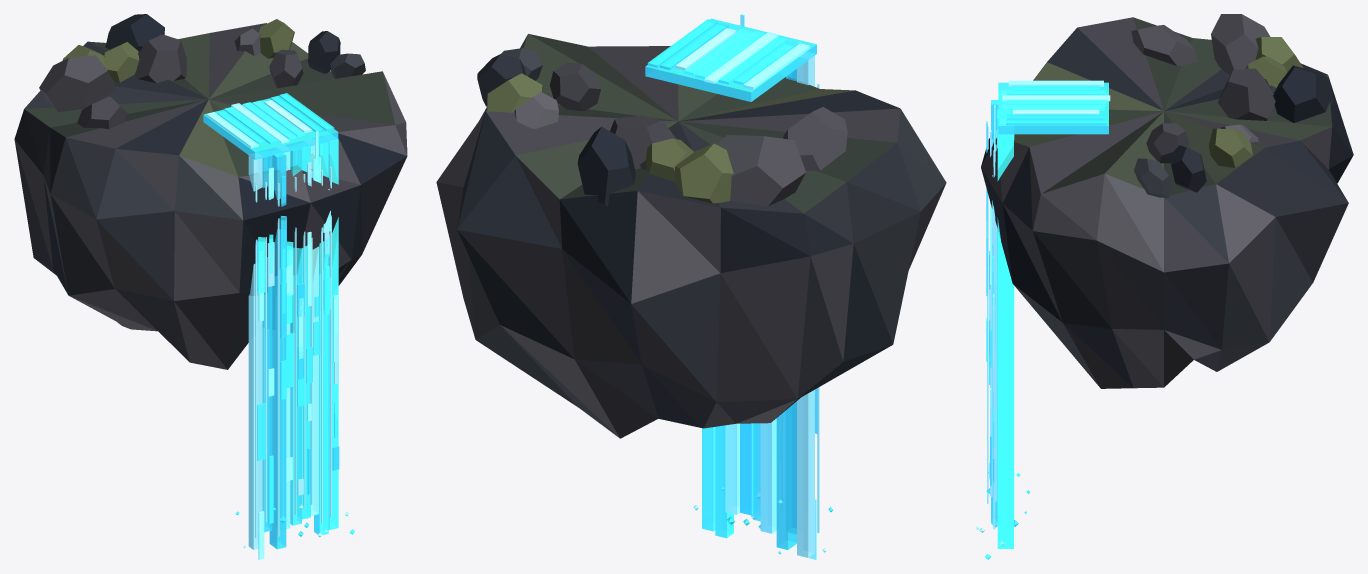
3 views of the same model, side by side, from view 1: azimuth 30°, elevation 25°; view 2: azimuth 150°, elevation 25°; view 3: azimuth 270°, elevation 25° (orthographic). The views are drawn at different scales.
Visible parts, largest first — view 1: Low-poly waterfall; view 2: Low-poly waterfall; view 3: Low-poly waterfall.
Part boxes in pixels (box(x1,y1,x2,y2)): Low-poly waterfall: box(14, 14, 407, 559); Low-poly waterfall: box(436, 14, 946, 559); Low-poly waterfall: box(975, 14, 1353, 559).
Size of the model in its own units: 3.32 by 4 by 2.95.
